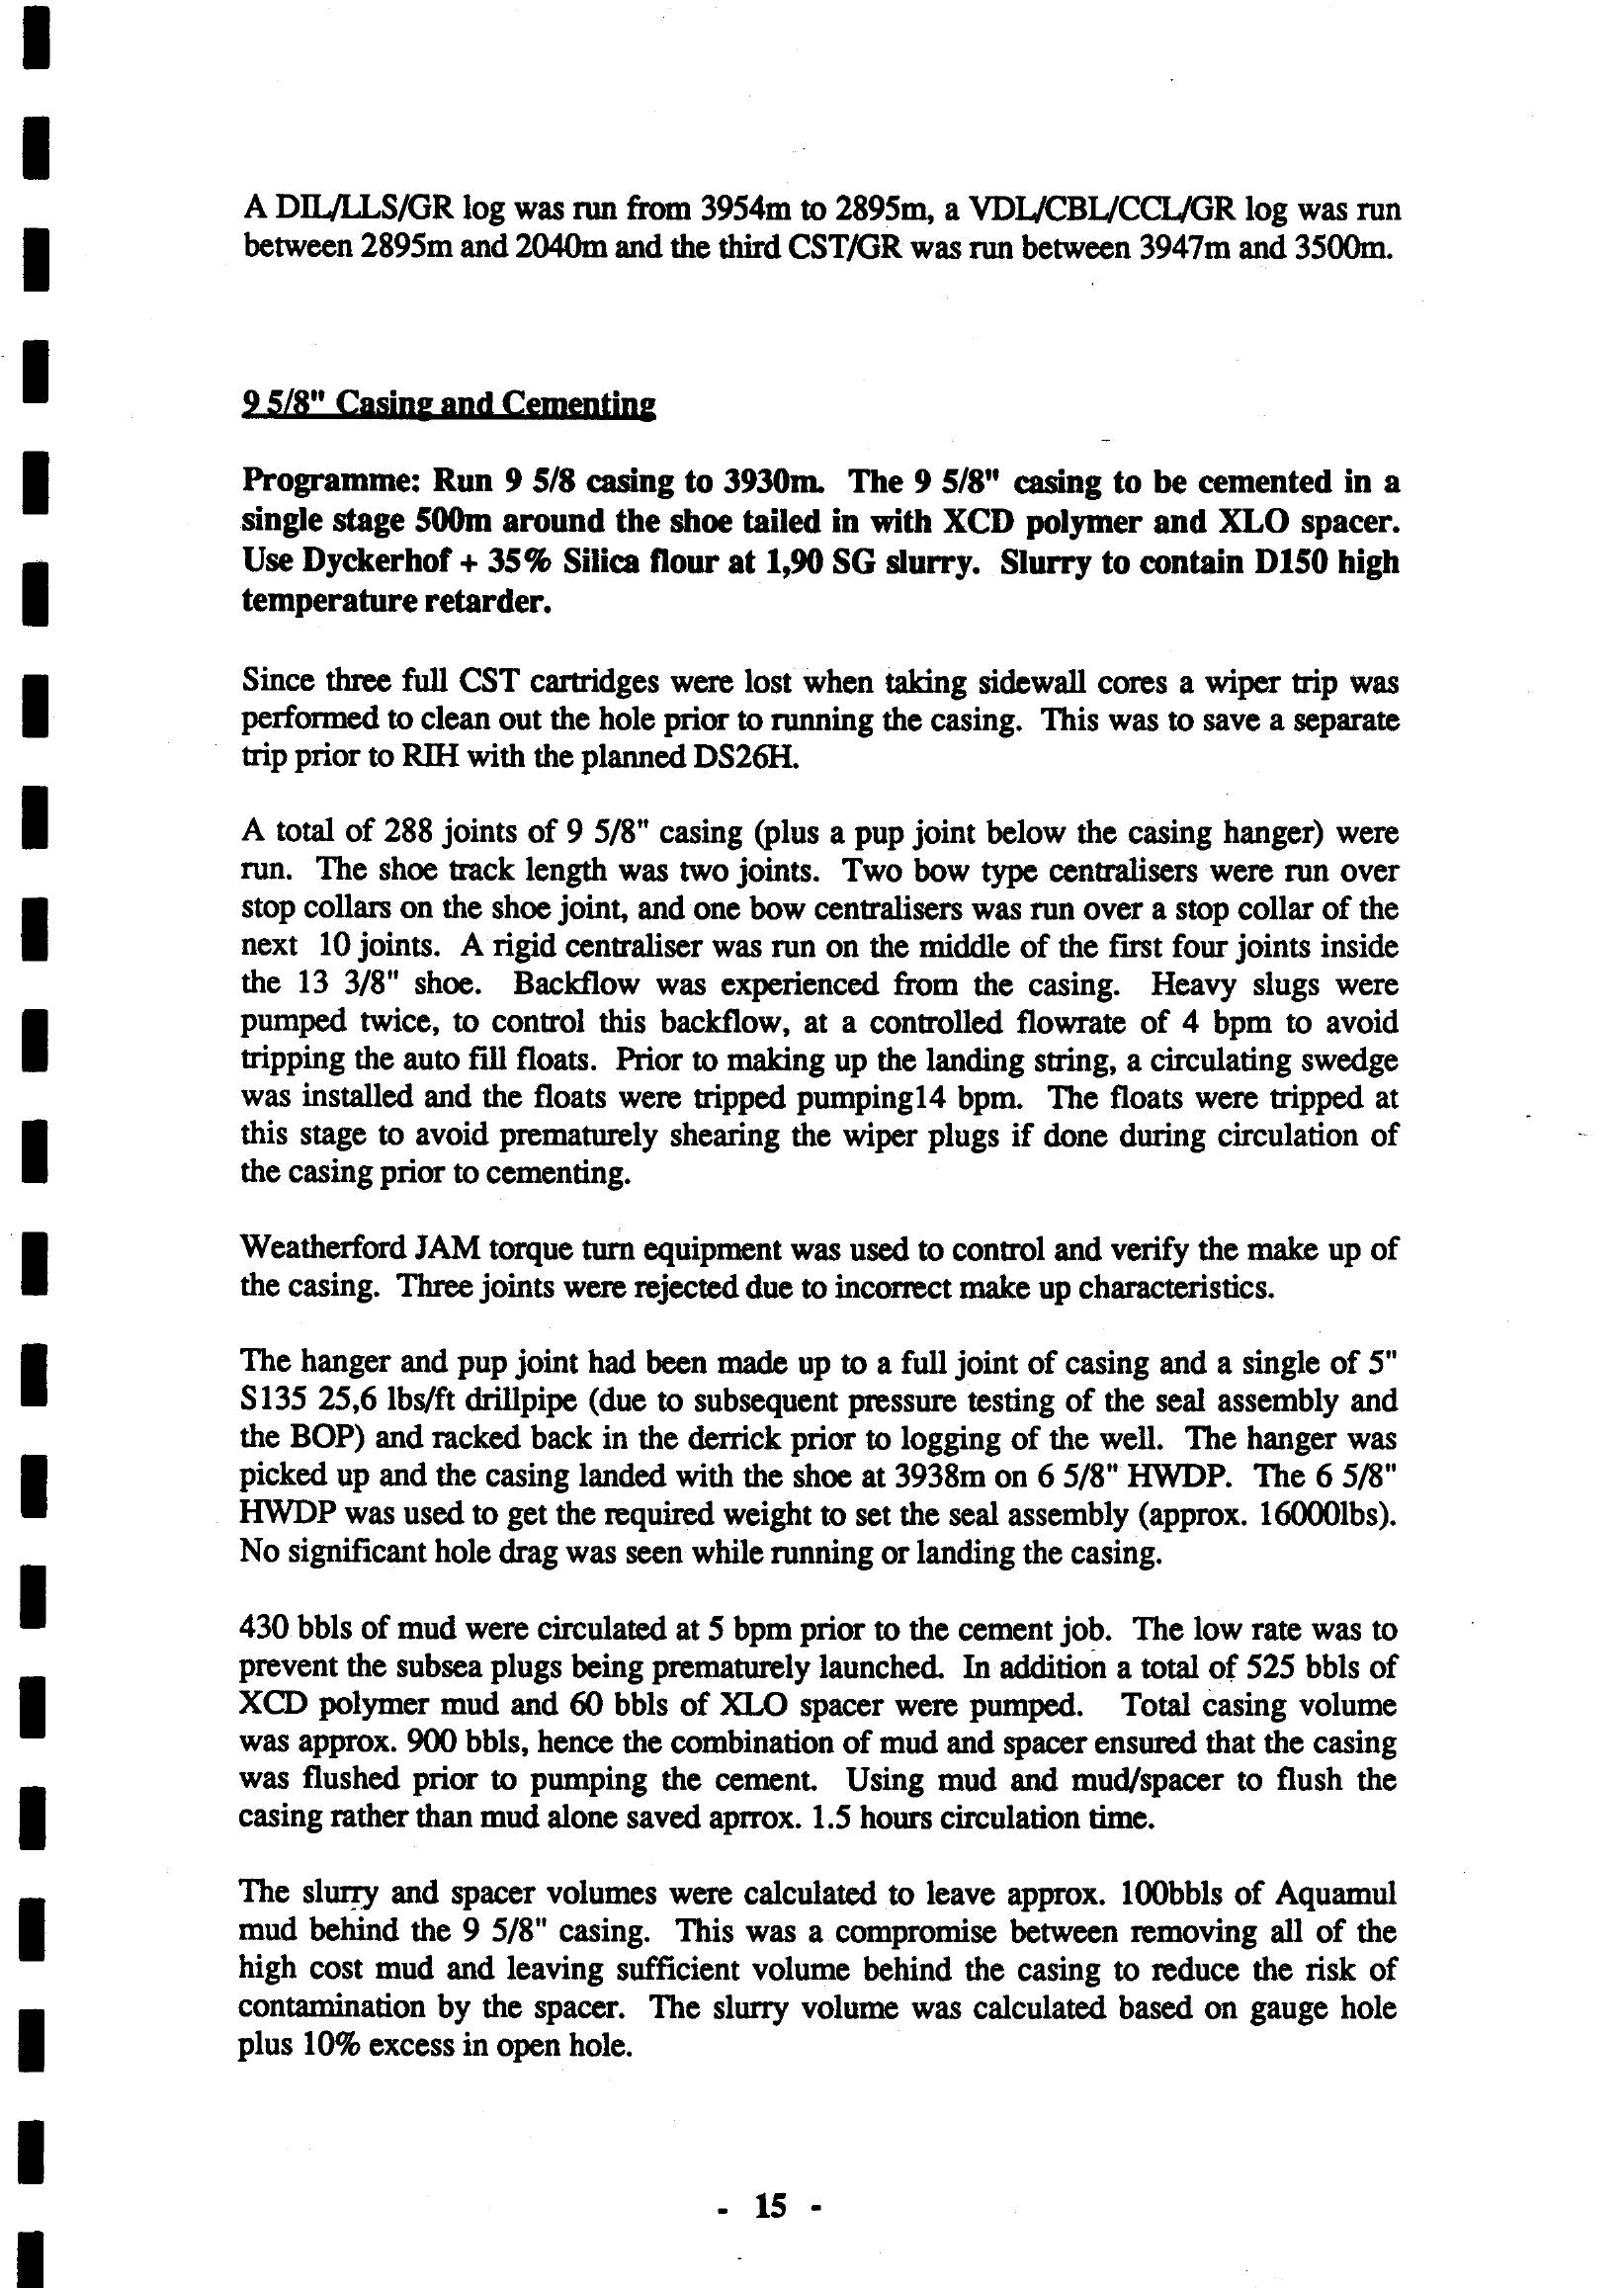text: (185, 163, 1454, 2082)
